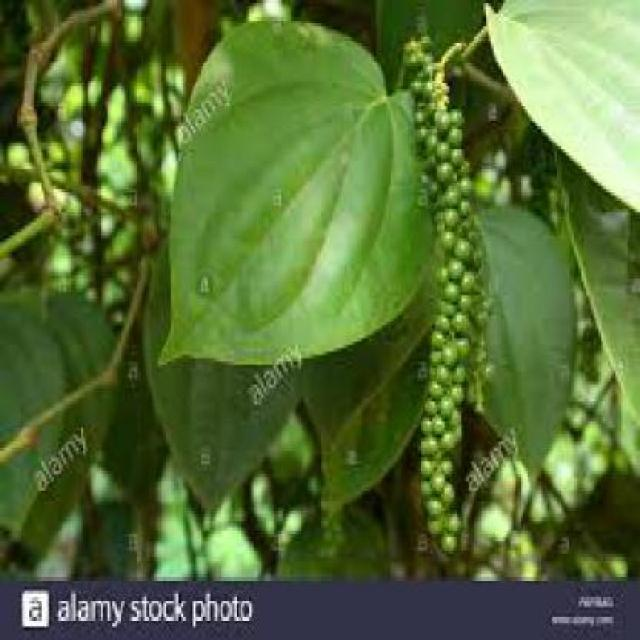UNRIPE: (406, 37, 491, 554)
